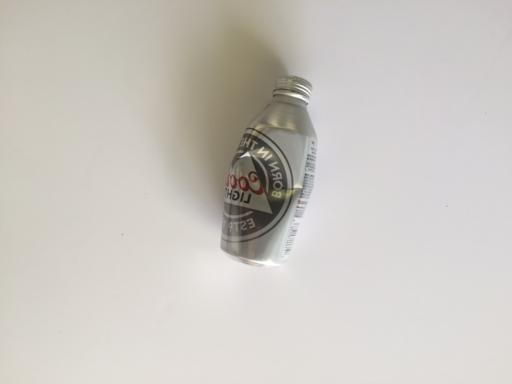metal: (219, 74, 318, 268)
